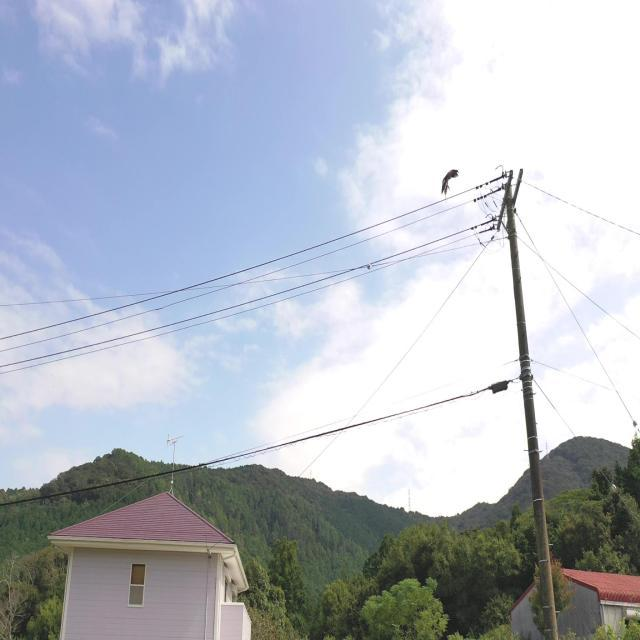Birds: (436, 163, 459, 206)
